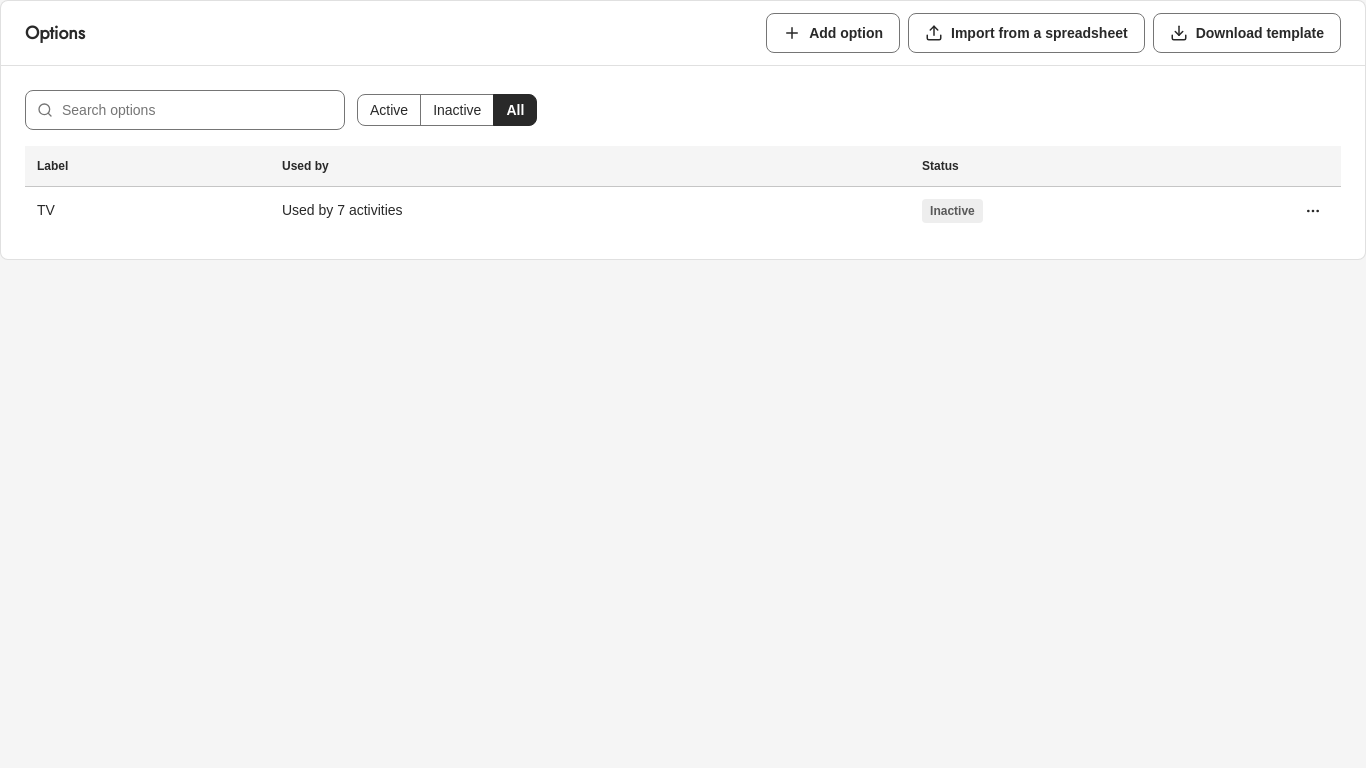
OptionsCard (FR-018, FR-020, SC-007) › says an inactive option in use is already inactive
Click the button named "Actions for TV" at (1313, 210), box [1297,194,1329,226]
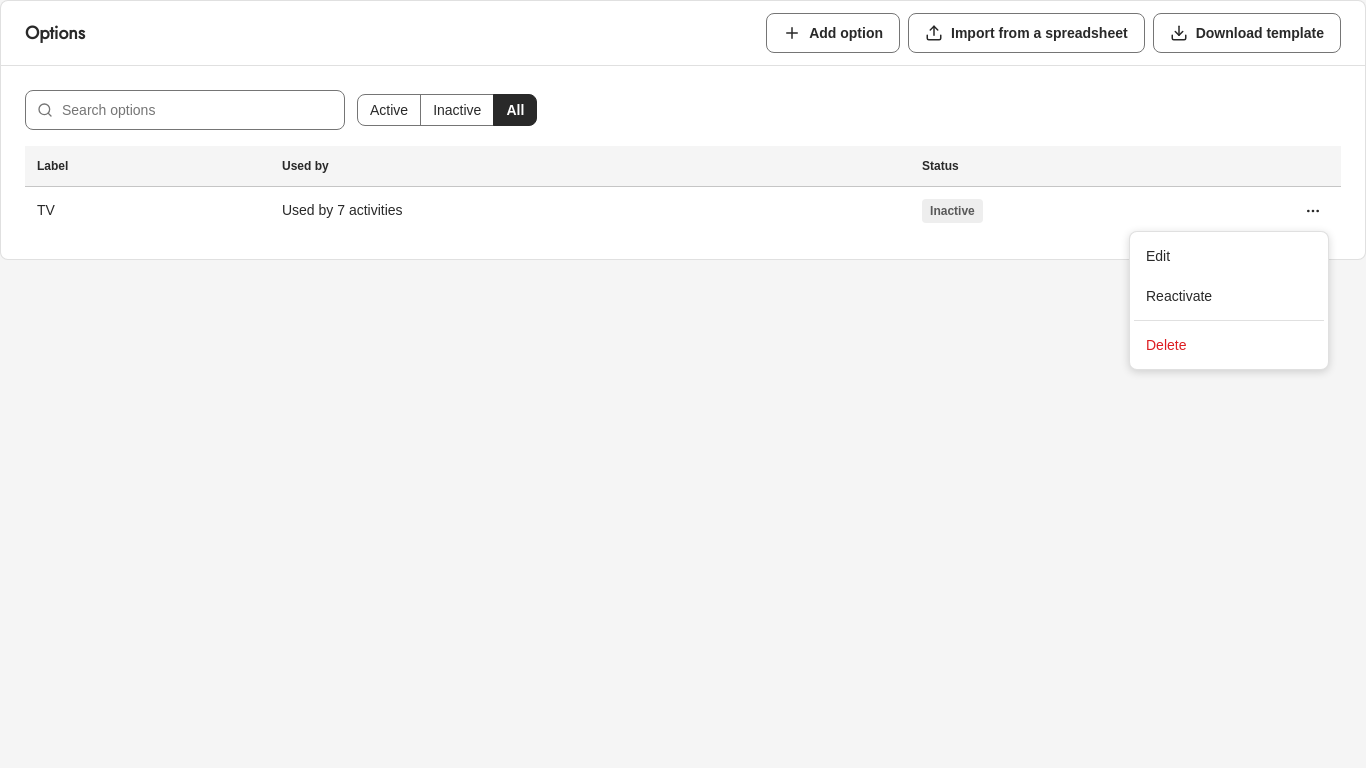
Click the menu item "Delete" at (1166, 345), box [1146,337,1186,353]
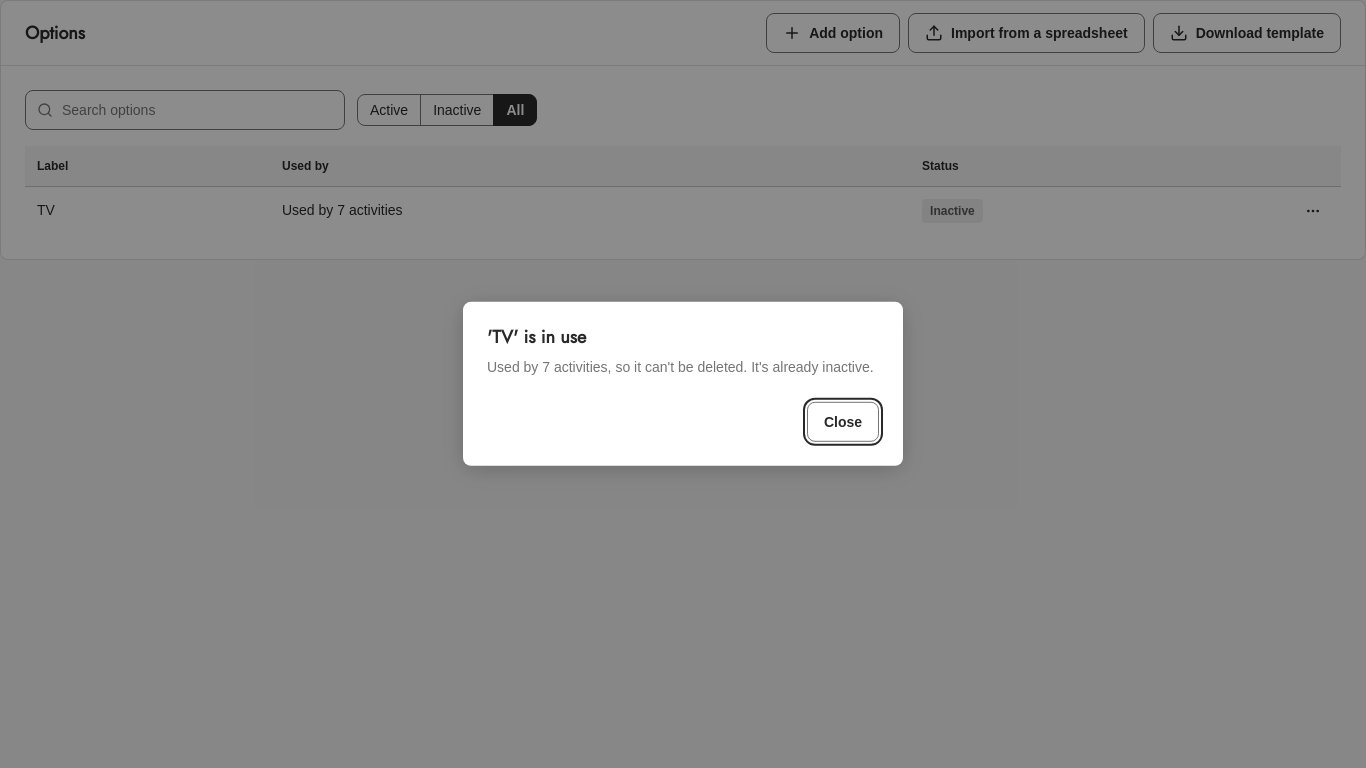
Now the dialog "'TV' is in use" shows "Used by 7 activities, so it can't be deleted. It's already inactive.", box [487,359,874,375]
Click the button "Close" at (843, 422), box [807,402,879,442]
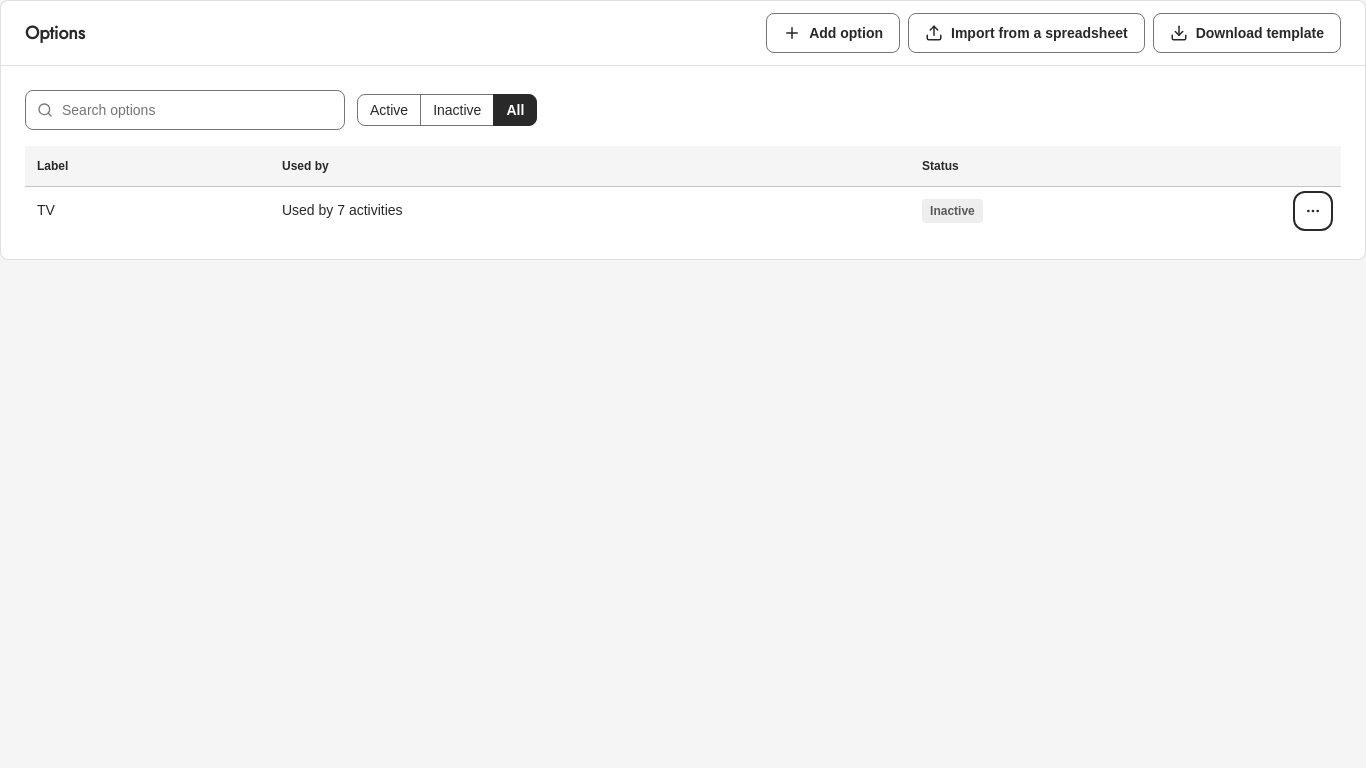
Now the dialog is gone
